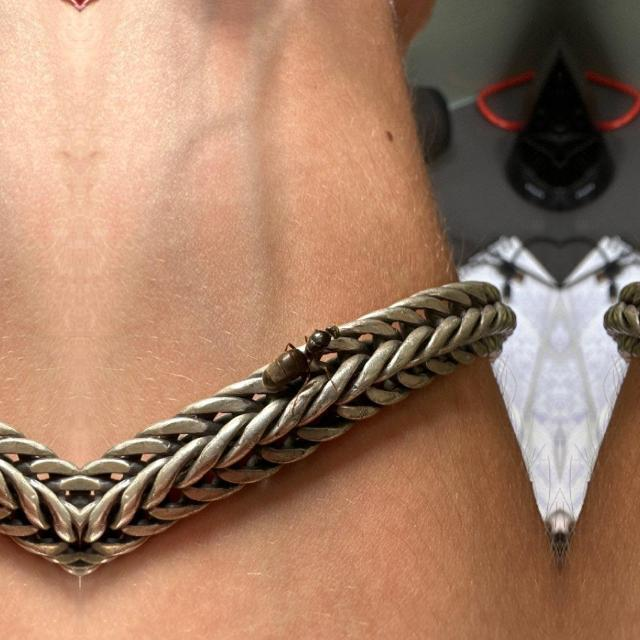Lasius: (245, 319, 345, 397)
